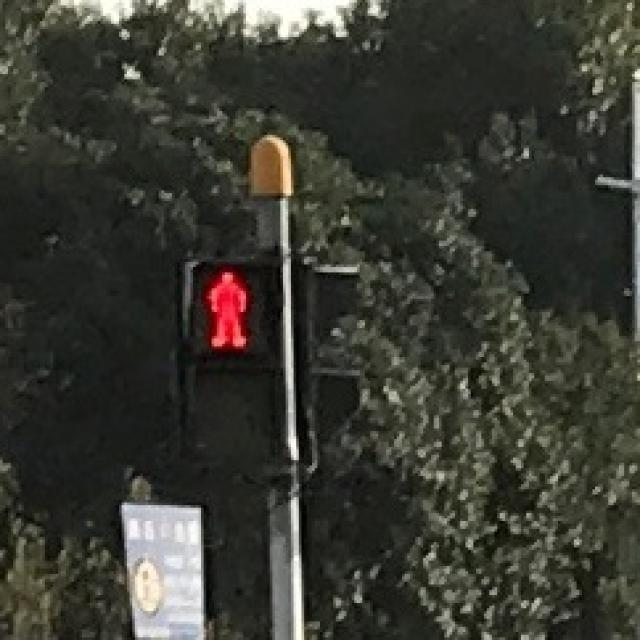red-crossing: (188, 256, 264, 354)
